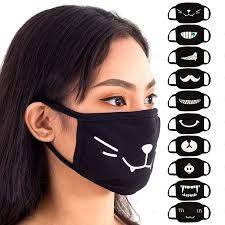with-mask: (33, 26, 163, 206)
